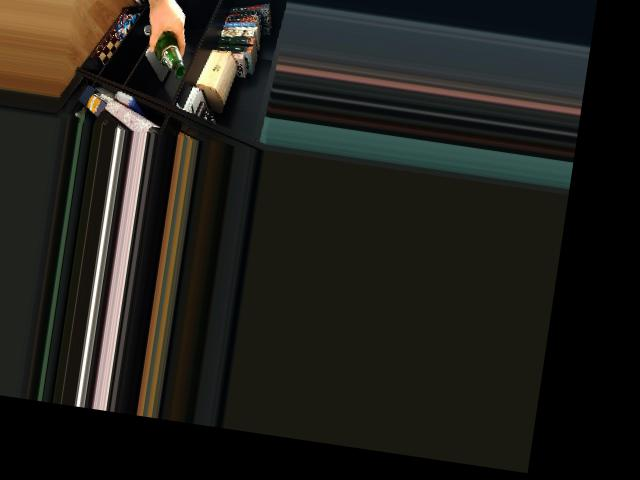beer: (143, 24, 190, 78)
